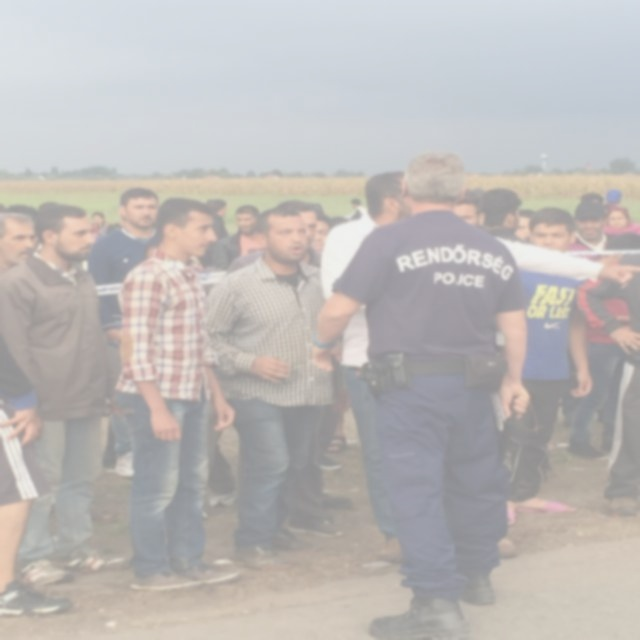pessoa: (308, 148, 534, 640), (315, 168, 522, 568), (194, 206, 354, 574), (0, 201, 139, 589), (110, 195, 243, 597), (223, 198, 347, 540), (0, 210, 86, 558), (506, 206, 595, 526), (0, 330, 75, 622), (86, 186, 161, 477), (574, 252, 640, 518), (566, 232, 640, 462), (313, 407, 363, 525), (210, 204, 266, 272), (477, 187, 537, 246), (564, 200, 620, 262), (197, 198, 232, 269), (310, 212, 352, 258), (444, 187, 486, 230), (600, 203, 640, 244), (94, 202, 128, 242), (508, 207, 544, 244), (0, 201, 60, 221), (577, 188, 626, 208), (89, 212, 112, 244), (342, 198, 369, 221), (142, 242, 162, 262), (458, 187, 486, 201)
